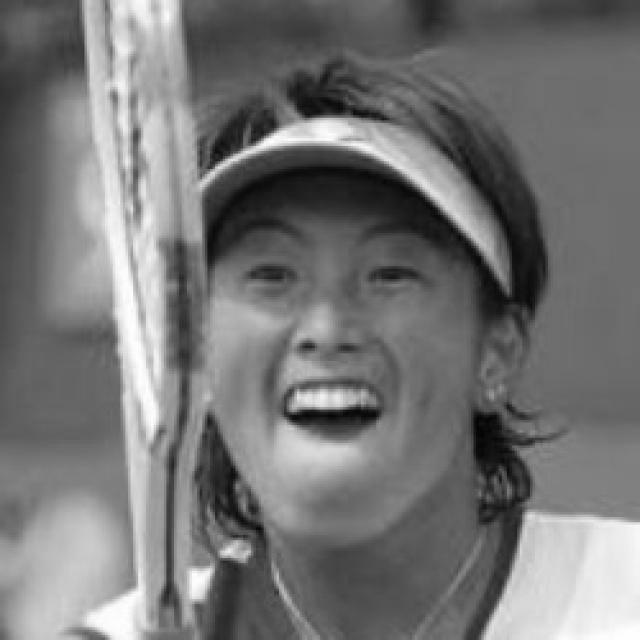real: (186, 86, 496, 546), (238, 229, 429, 302)
